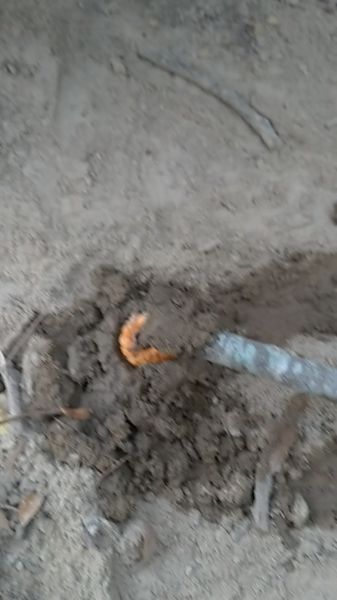eggs: (111, 307, 180, 371)
